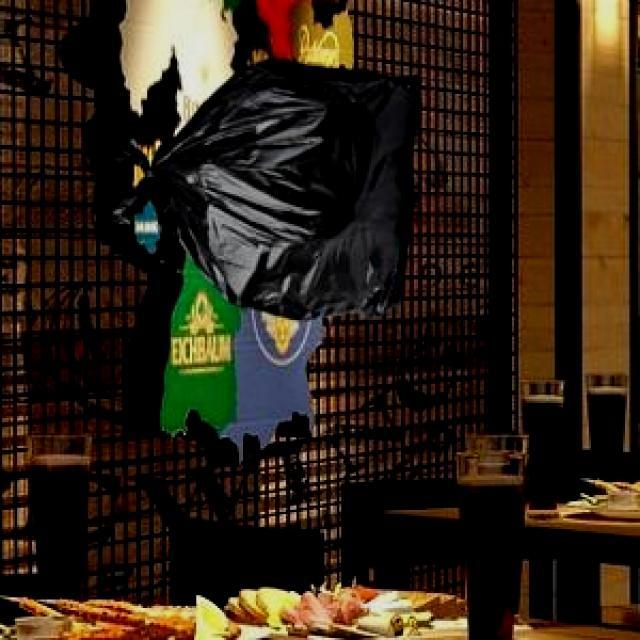Trashbag: (108, 60, 431, 324)
